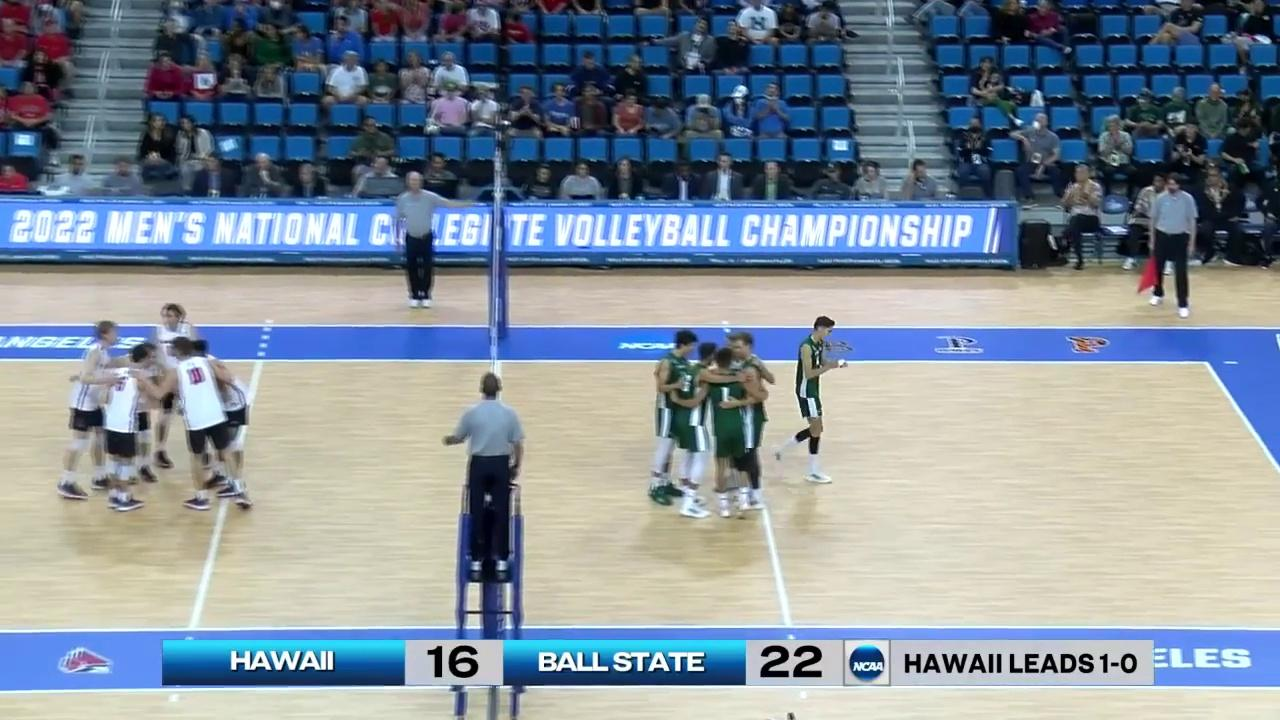player: (169, 337, 249, 512), (57, 322, 118, 498), (778, 318, 837, 484), (191, 340, 247, 498), (152, 304, 204, 470), (704, 349, 754, 520), (650, 330, 697, 506), (105, 345, 153, 513), (726, 334, 769, 509), (681, 342, 716, 520), (116, 343, 159, 483)
refree: (457, 372, 522, 576), (1150, 174, 1197, 319), (398, 171, 448, 307)
